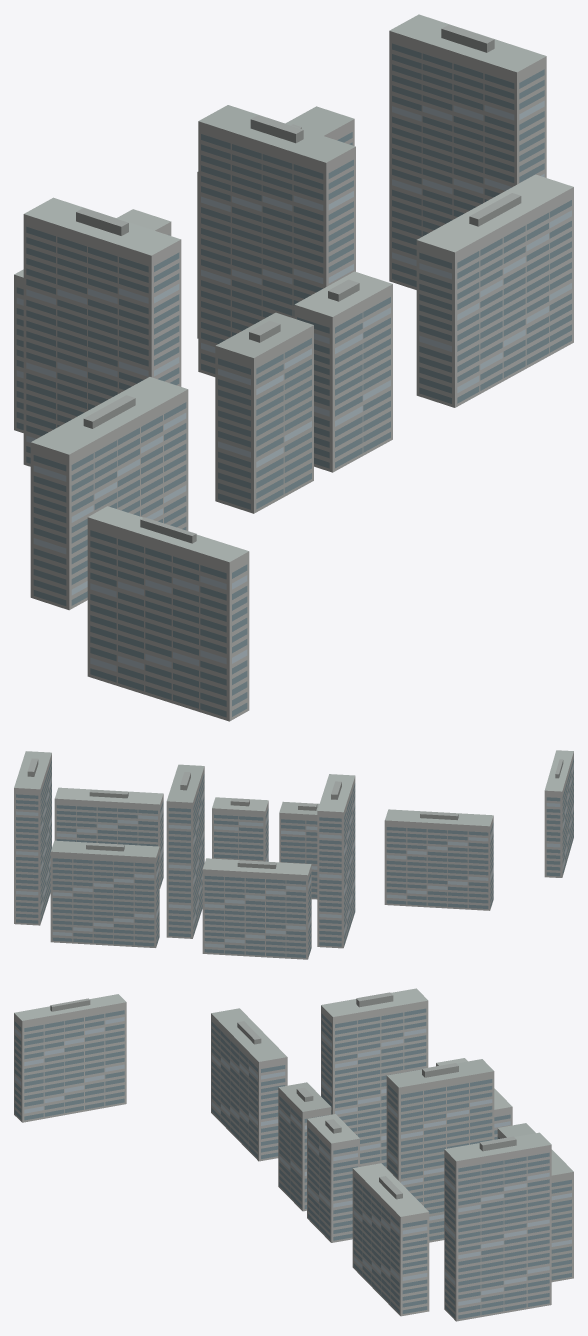
Rendered from apt-a13592604.glb.
The picture shows the model from 3 angles, top to bottom: view 1: azimuth 30°, elevation 25°; view 2: azimuth 150°, elevation 25°; view 3: azimuth 270°, elevation 25°; orthographic projection. The views are drawn at different scales.
Parts seen in each view (by area): view 1: apt-a13592604; view 2: apt-a13592604; view 3: apt-a13592604.
Boxes of the visible parts, x1,y1,x2,y2 form: apt-a13592604: (14,14,573,721); apt-a13592604: (14,750,573,959); apt-a13592604: (14,988,573,1321).
Bounding box in the file's own units: 195 × 67 × 205.
